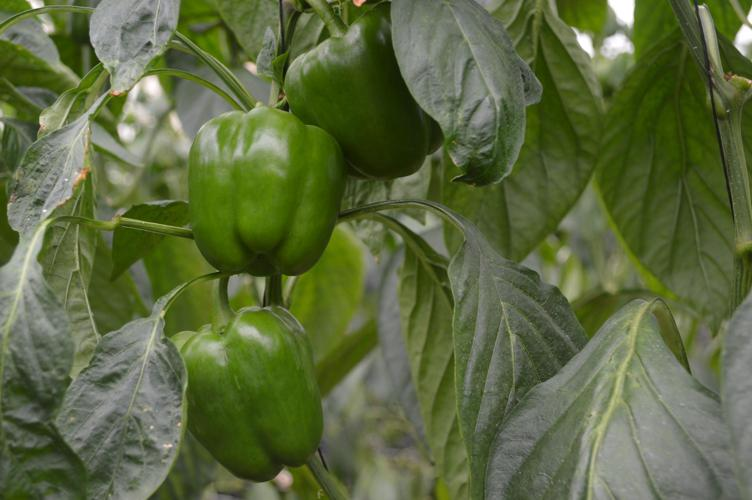BellPepper: (162, 306, 323, 482), (188, 105, 343, 273), (284, 16, 429, 176)
